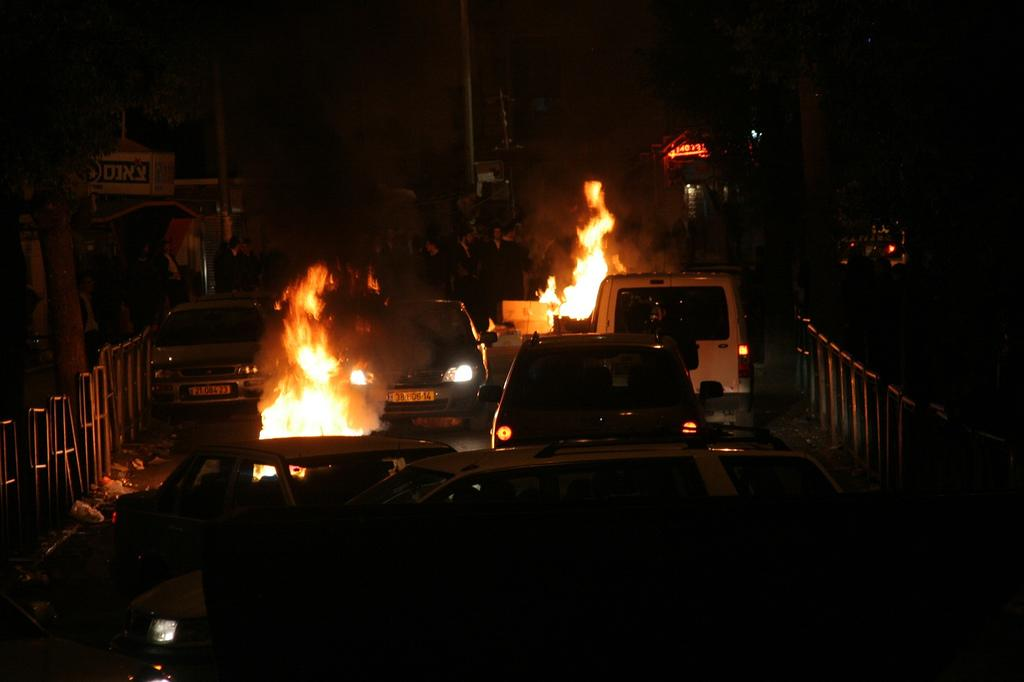fire: (262, 348, 362, 437), (563, 247, 603, 322)
